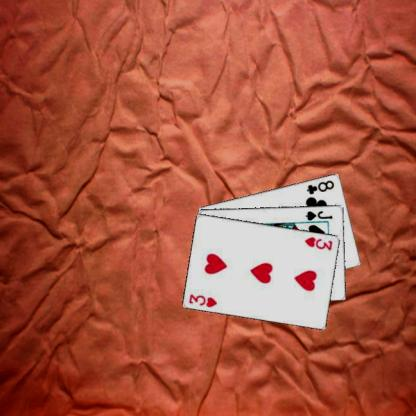3H: (302, 234, 334, 252), (187, 291, 218, 308)
8C: (304, 177, 335, 195)
JS: (303, 208, 333, 221)
